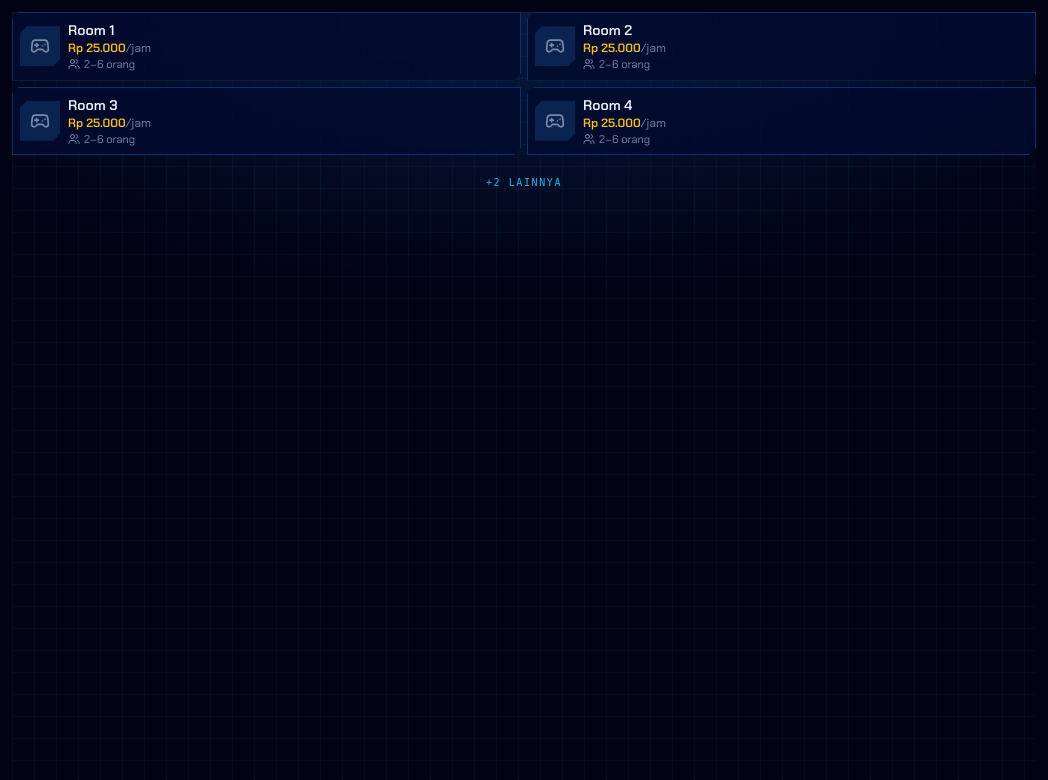
RoomStep › shows 4 rooms, then a "+N lainnya" button that reveals the rest in place
Expected: the number of radio buttons is 4, x1=12 y1=12 x2=521 y2=80; x1=527 y1=12 x2=1036 y2=80; x1=12 y1=86 x2=521 y2=155; x1=527 y1=86 x2=1036 y2=155
Click the button "+2 lainnya". click: (524, 183)
box: x1=12 y1=161 x2=1036 y2=205
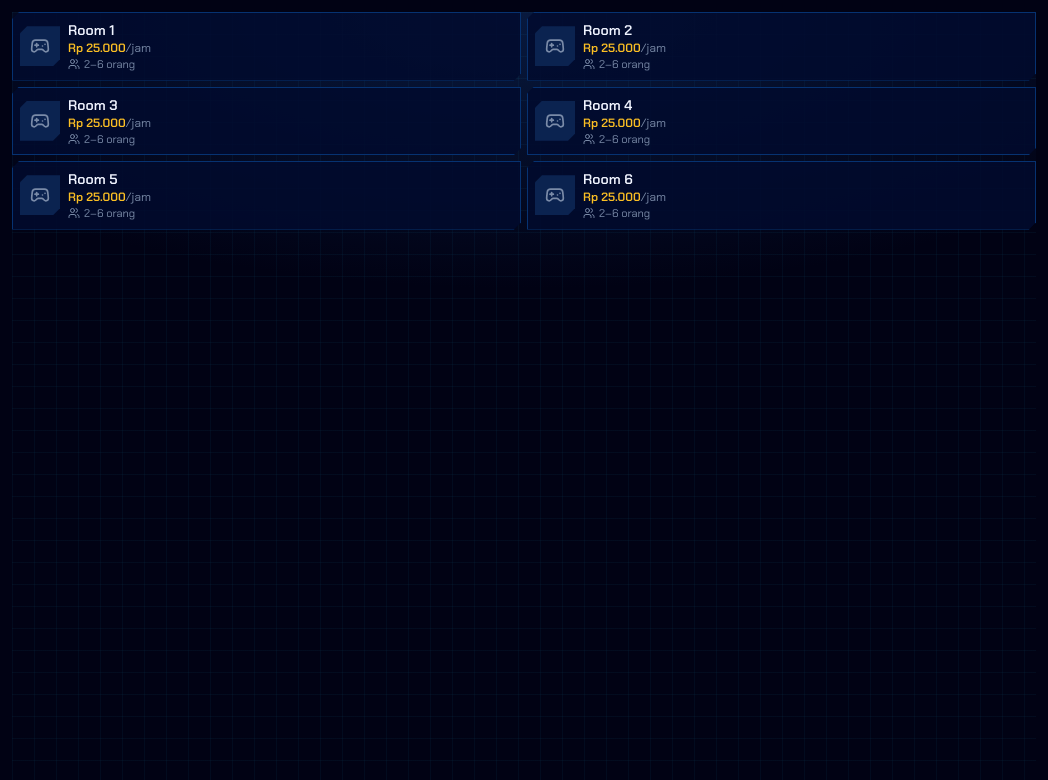
Expected: the number of radio buttons is 6, x1=12 y1=12 x2=521 y2=80; x1=527 y1=12 x2=1036 y2=80; x1=12 y1=86 x2=521 y2=155; x1=527 y1=86 x2=1036 y2=155; x1=12 y1=161 x2=521 y2=230; x1=527 y1=161 x2=1036 y2=230
